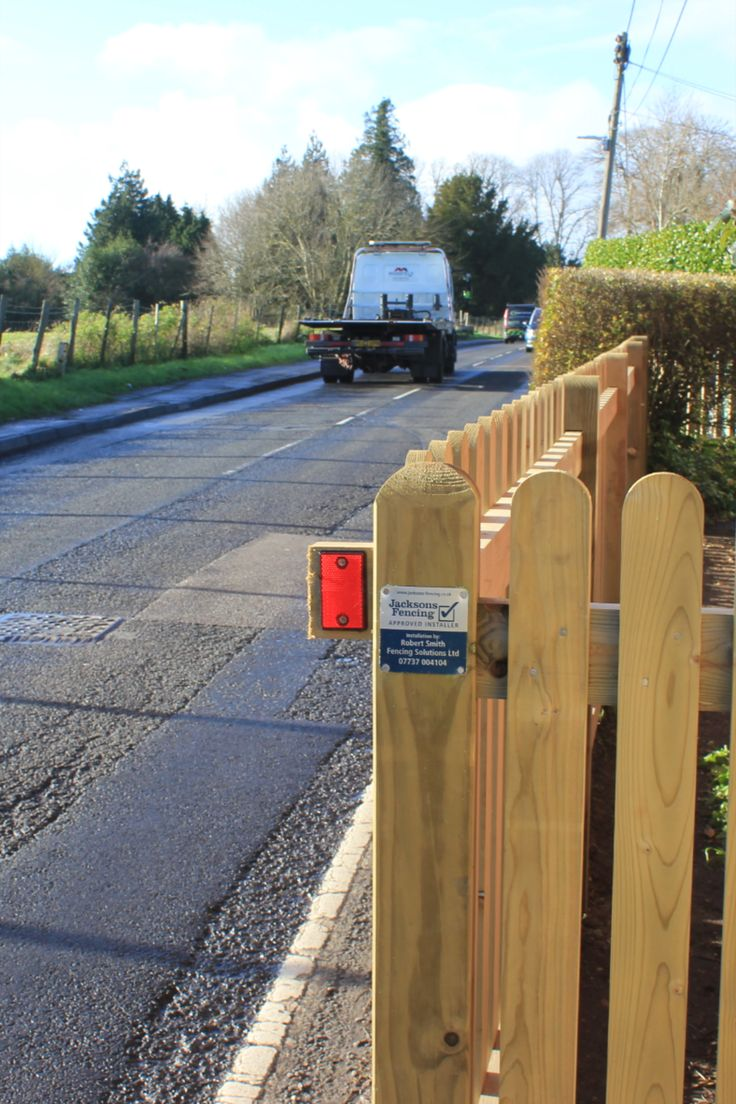Fence: (387, 349, 736, 1104)
